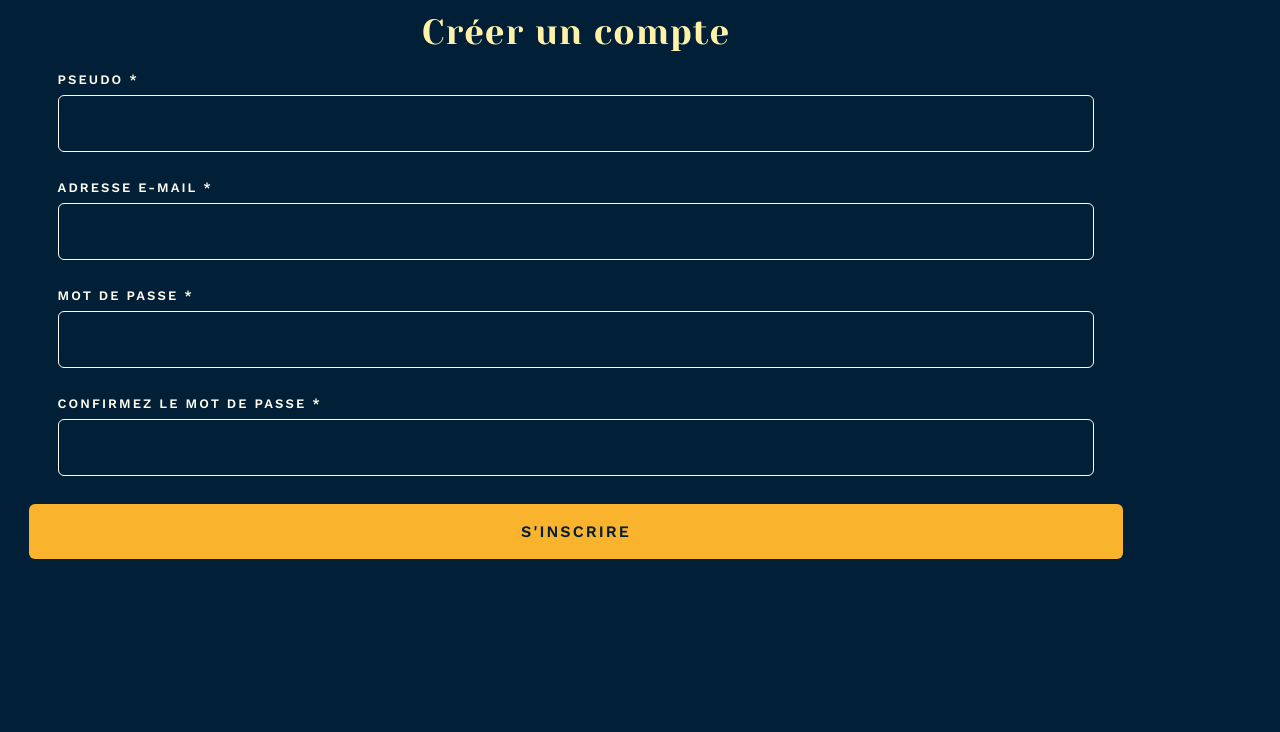
Test: AccountCreation component tests › should return false and set missing email error
The width and height of the screenshot is (1280, 732).
Type "TonySoprano" into the field labelled "Pseudo *".
click(576, 124); type("TonySoprano")  # box x1=58 y1=95 x2=1094 y2=152
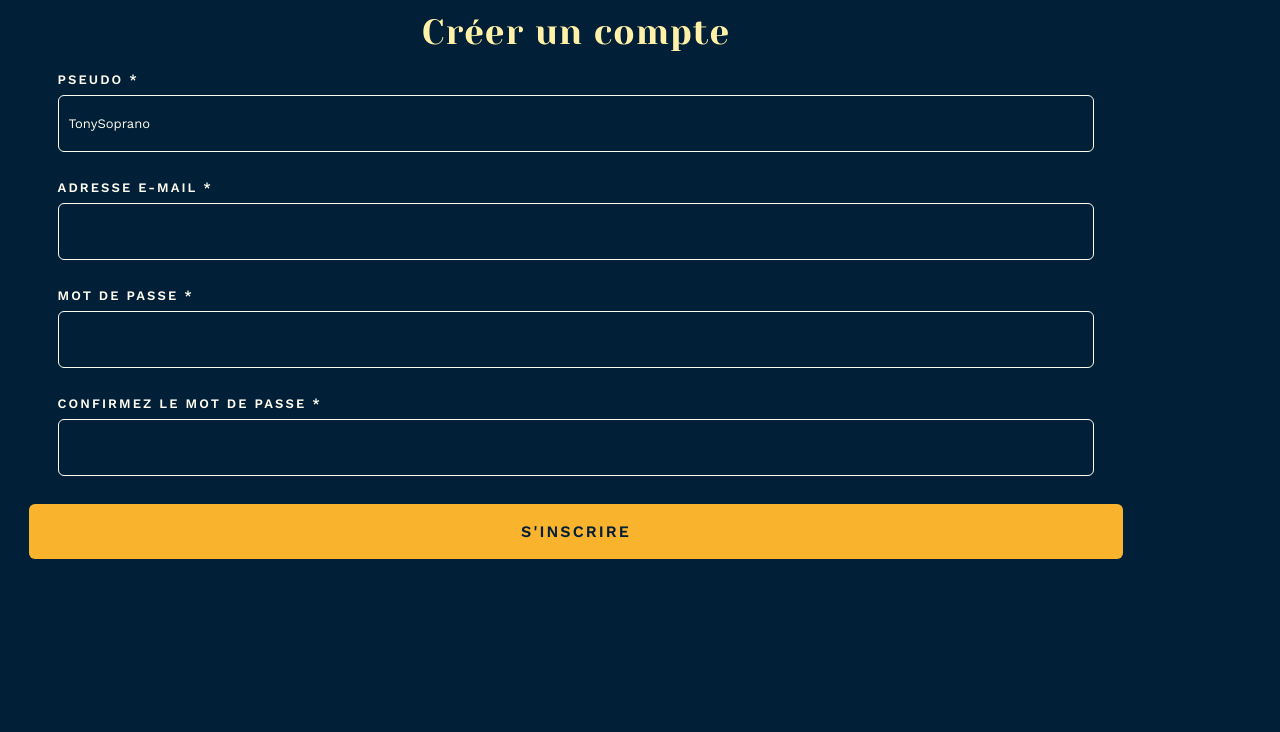
Submit the form from the button "S'inscrire", box x1=29 y1=504 x2=1123 y2=559
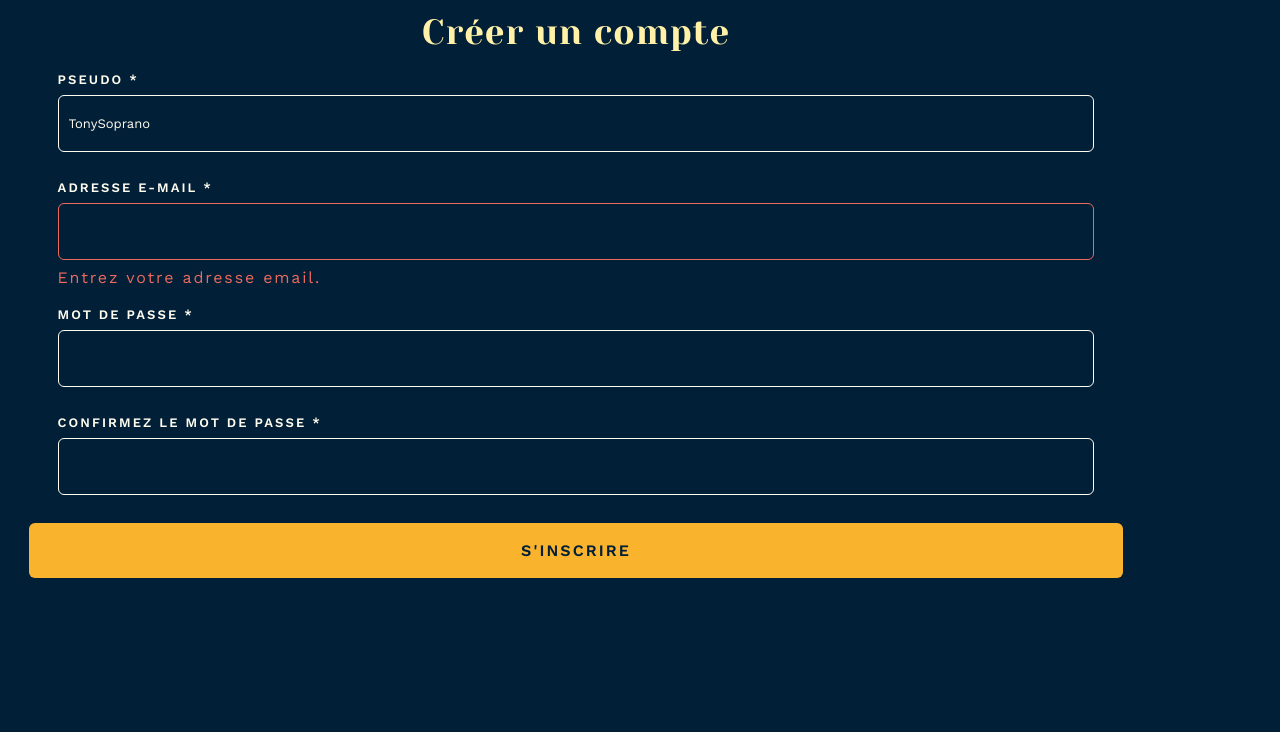
Expected: the text "Entrez votre adresse email." is shown, x1=58 y1=268 x2=321 y2=287
